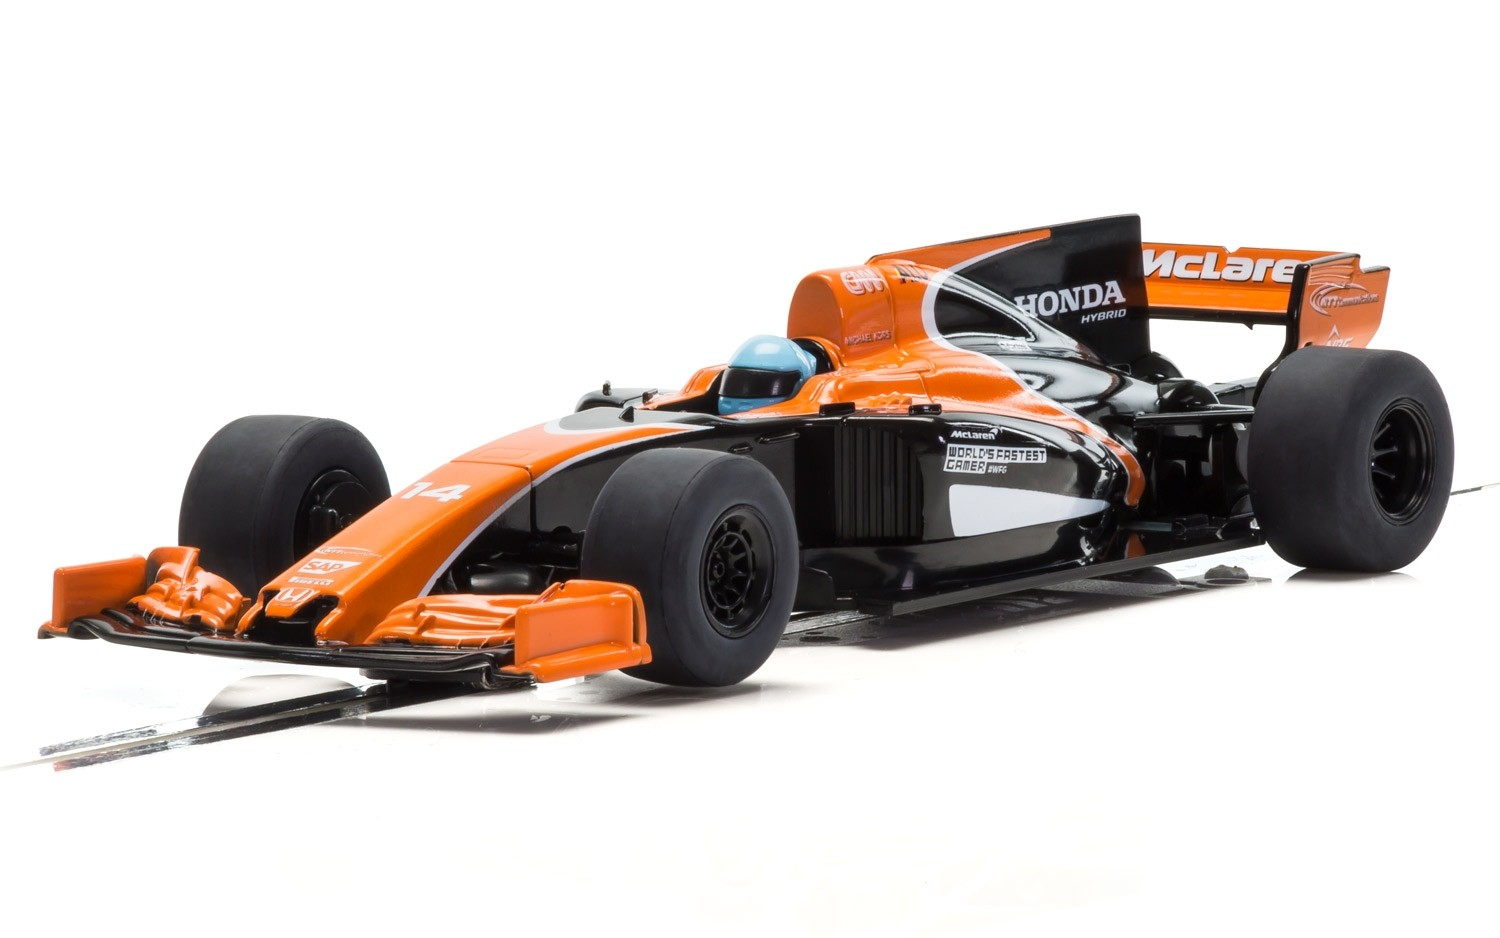f1_car: (21, 182, 1475, 715)
helmet: (708, 326, 820, 432)
